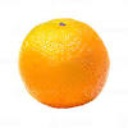orange: (17, 18, 114, 110)
